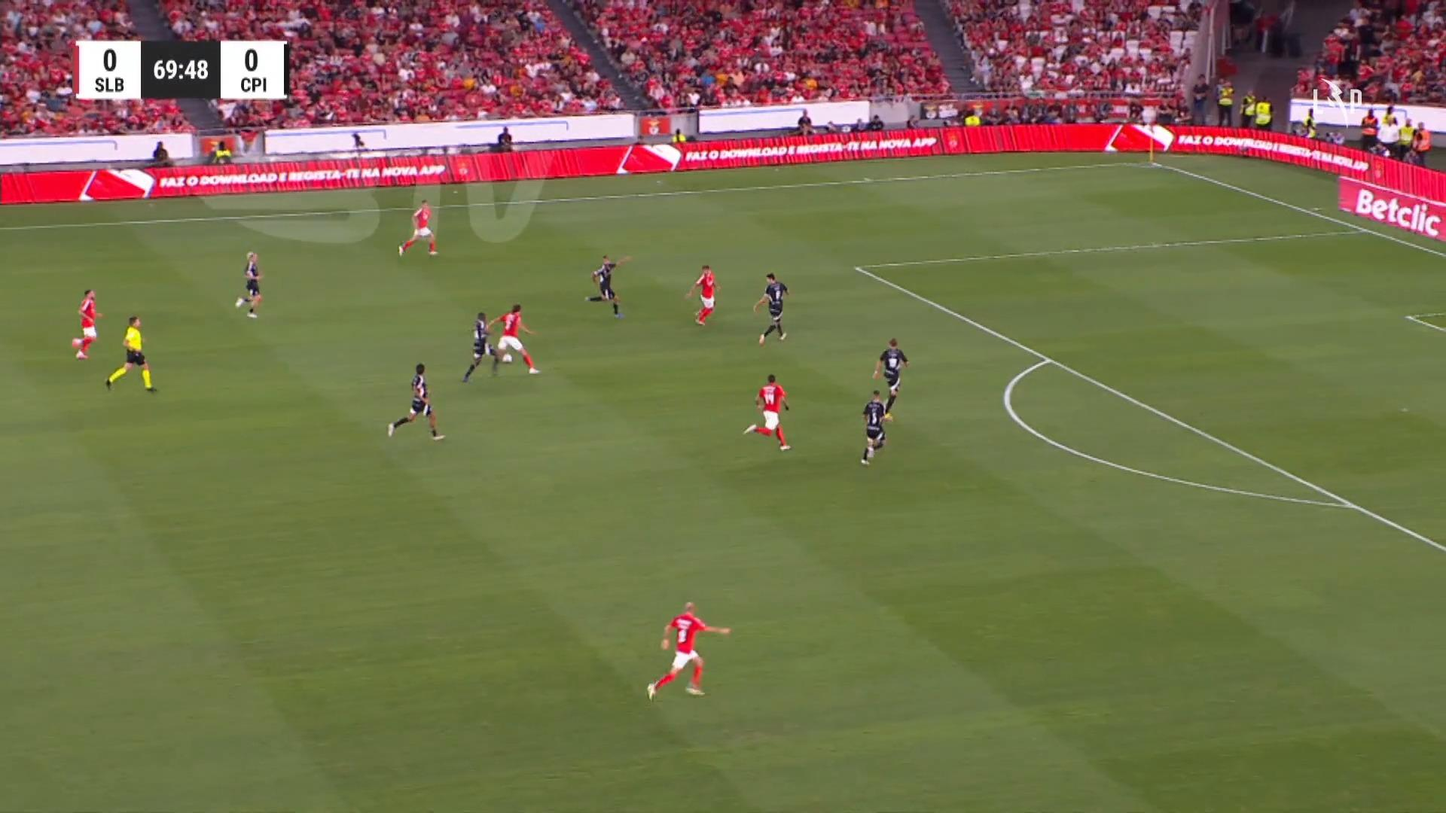ball: (501, 353, 512, 363)
player: (645, 600, 731, 702), (386, 362, 446, 441), (742, 373, 792, 451), (487, 303, 541, 375), (584, 253, 631, 319), (872, 337, 909, 419), (752, 272, 789, 345), (461, 311, 498, 382), (859, 389, 892, 465), (397, 198, 438, 257), (71, 288, 102, 358), (685, 263, 718, 326), (234, 250, 264, 318)
referee: (104, 315, 157, 392)
